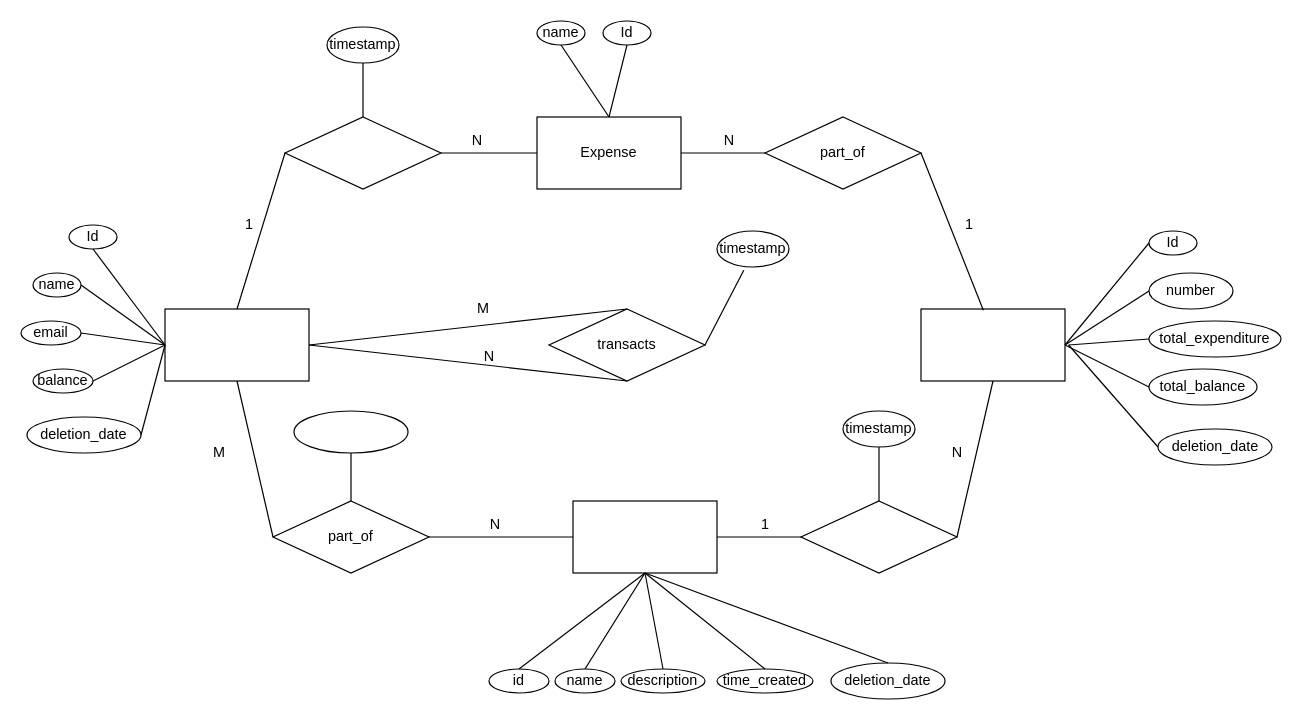
Image size: 1302x720. Some labels were removed from this diagram. Each missing label, with the centre of its shape:
Bill: the point at 992,344
contains: the point at 878,536
date_of_joining: the point at 350,431
Group: the point at 644,536
pays_for: the point at 362,152
User: the point at 236,344
